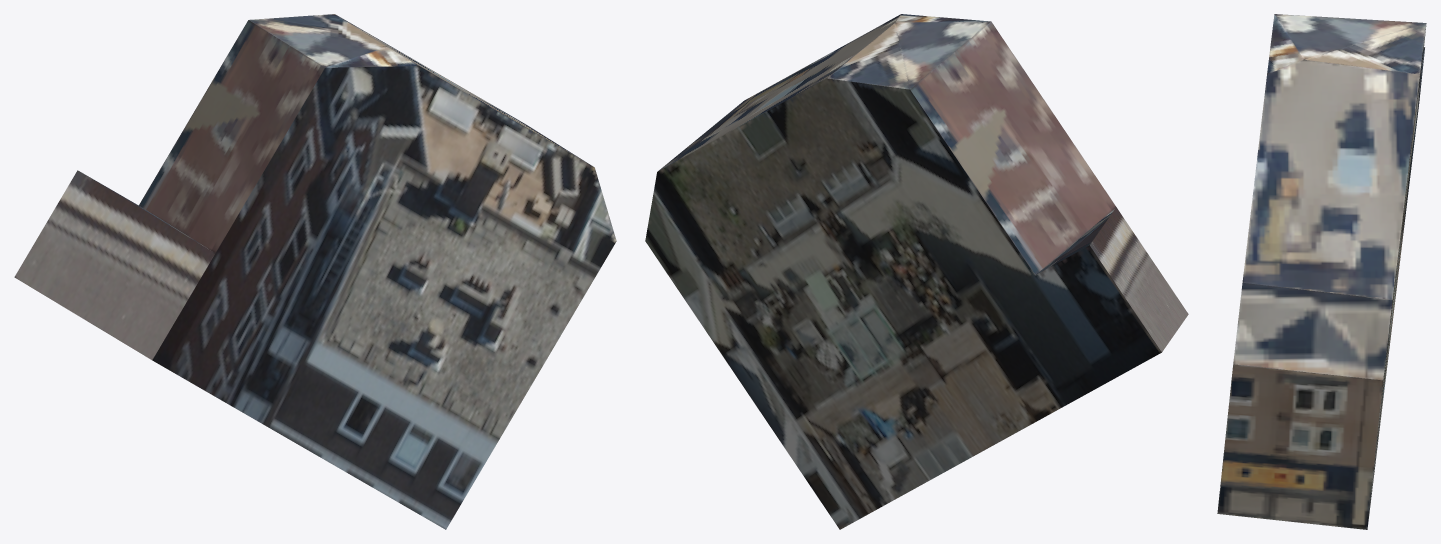
3 renders of one model, left to right at view 1: azimuth 30°, elevation 25°; view 2: azimuth 150°, elevation 25°; view 3: azimuth 270°, elevation 25°, orthographic. The views are drawn at different scales.
Parts seen in each view (by area): view 1: BAG_0599100000671740 (×4); view 2: BAG_0599100000671740 (×3); view 3: BAG_0599100000671740 (×3).
Boxes of the visible parts, x1,y1,x2,y2 form: BAG_0599100000671740 (×4): (14, 14, 616, 529); BAG_0599100000671740 (×3): (645, 14, 1188, 529); BAG_0599100000671740 (×3): (1217, 14, 1426, 529).
Size of the model in its own units: 22.68 by 20.12 by 8.13.
Materials: 4 (4 with a texture image).
